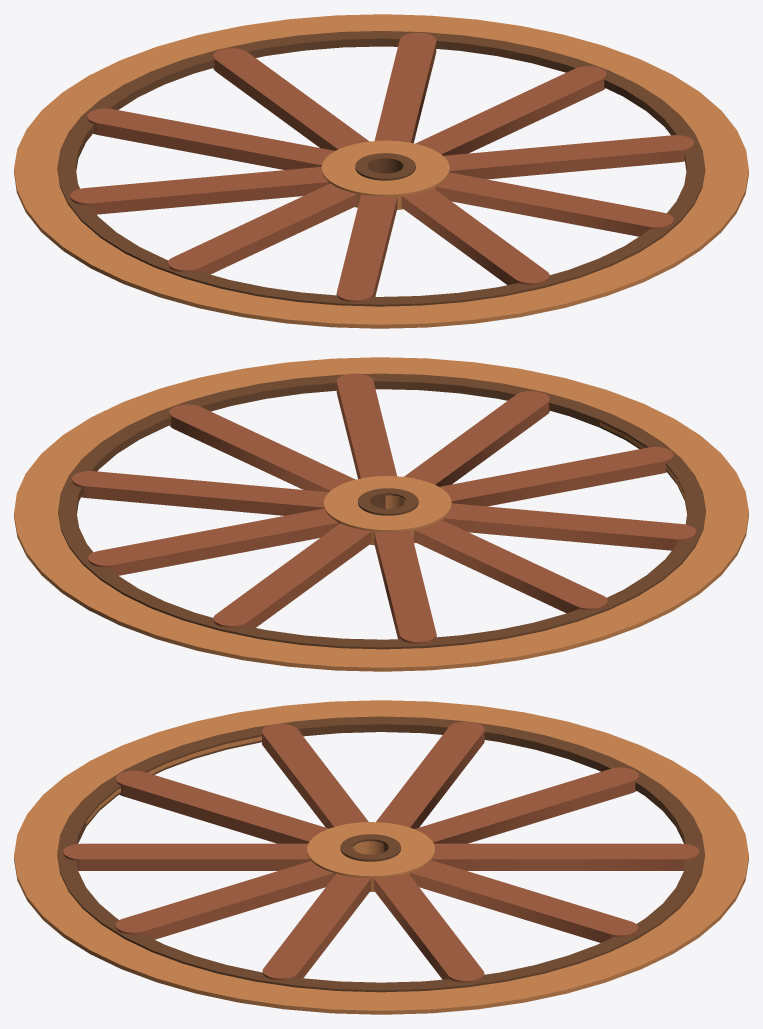
File: emoji_u1f6de.glb
3 renders of one model, top to bottom at view 1: azimuth 30°, elevation 25°; view 2: azimuth 150°, elevation 25°; view 3: azimuth 270°, elevation 25°, orthographic.
Visible parts, largest first — view 1: emoji_u1f6de; view 2: emoji_u1f6de; view 3: emoji_u1f6de.
Boxes of the visible parts, x1,y1,x2,y2 form: emoji_u1f6de: (14,14,748,328); emoji_u1f6de: (14,357,748,671); emoji_u1f6de: (14,700,748,1014).
Size of the model in its own units: 0.0339 by 0.001 by 0.0339.
